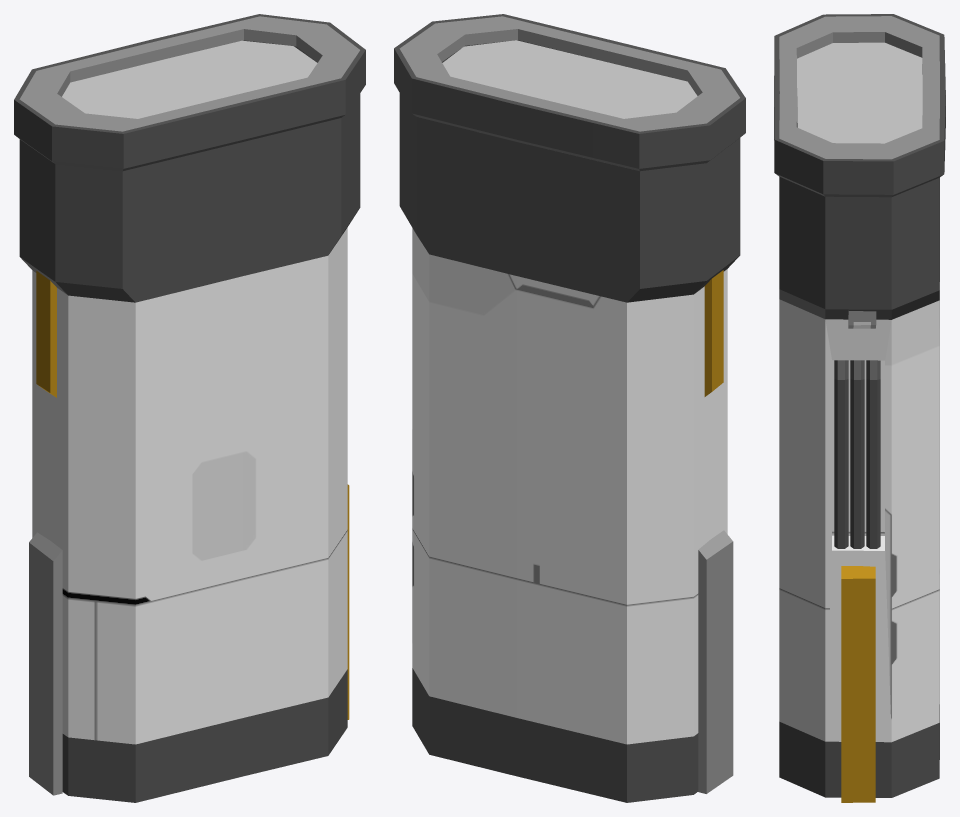
The model's file is SM_Column_5.fbx.
3 views of the same model, side by side, from view 1: azimuth 30°, elevation 25°; view 2: azimuth 150°, elevation 25°; view 3: azimuth 270°, elevation 25° (orthographic). The views are drawn at different scales.
Visible parts, largest first — view 1: SM_Column_5; view 2: SM_Column_5; view 3: SM_Column_5.
Boxes of the visible parts, x1,y1,x2,y2 form: SM_Column_5: (14, 14, 365, 802); SM_Column_5: (394, 14, 745, 802); SM_Column_5: (774, 14, 945, 802).
Bounding box in the file's own units: 147 × 300 × 72.45.
